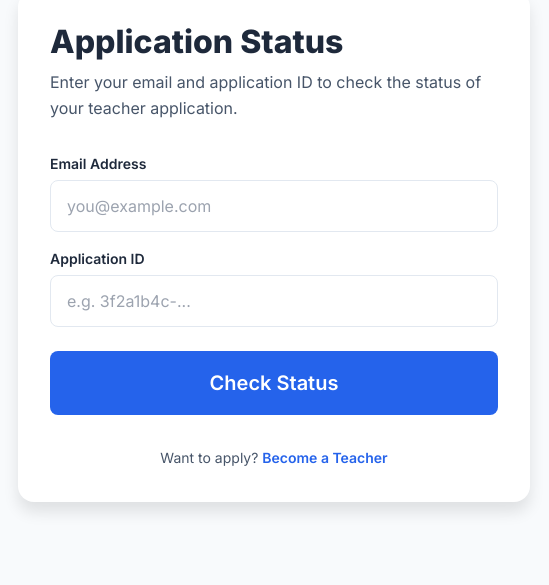
Test: ApplicationStatus › shows email validation error on empty submit
The image size is (549, 585).
Click the button "Check Status".
click(274, 383)  # box left=50, top=351, right=498, bottom=415
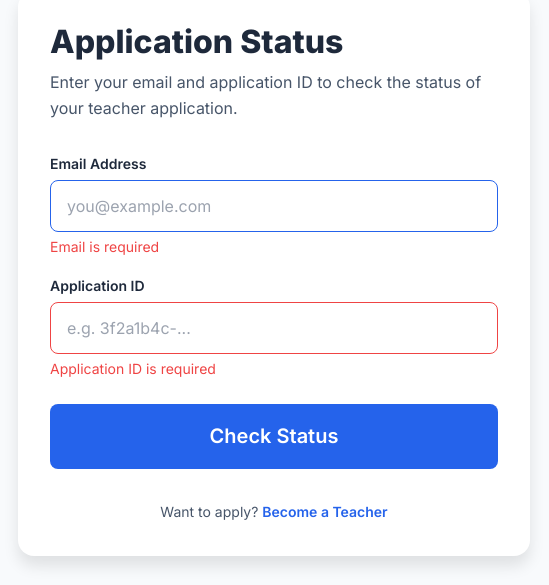
Check: the text "Email is required" is shown, box left=50, top=238, right=159, bottom=255
